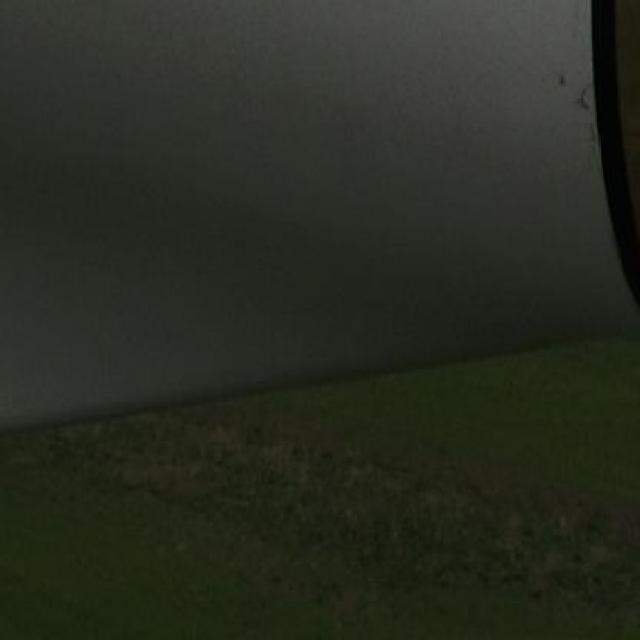Coating_defects: (556, 72, 564, 86)
Crack: (573, 81, 599, 114)
